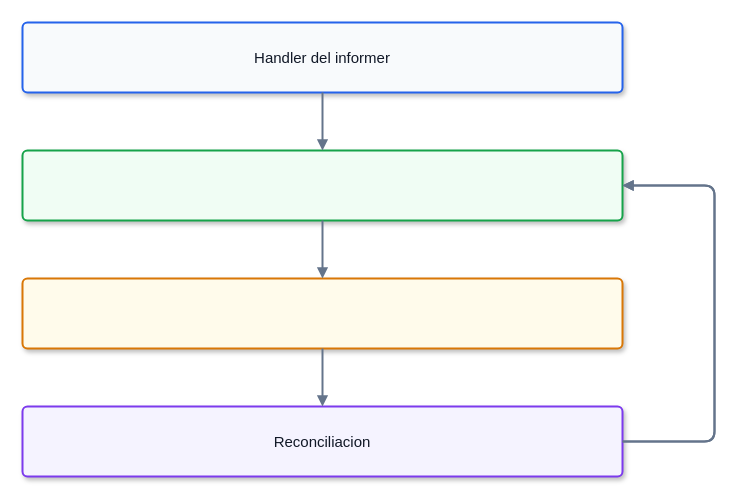
Some shapes in this 740 by 501 pixel diagram are drawn without their labels. The shapes that lost their labels are listed below. From the top down, each one's centre as x and y in pixels, then its label:
At (x=323, y=186): "Workqueue".
At (x=323, y=314): "Worker".
